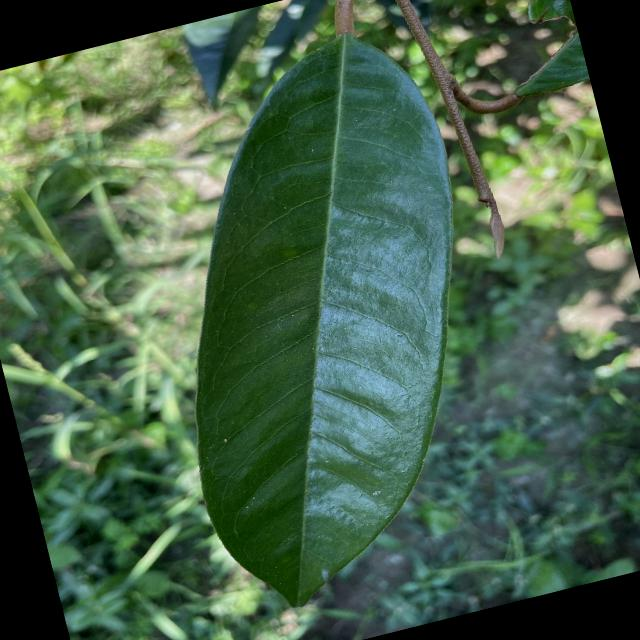No Disease: (94, 8, 554, 632)
